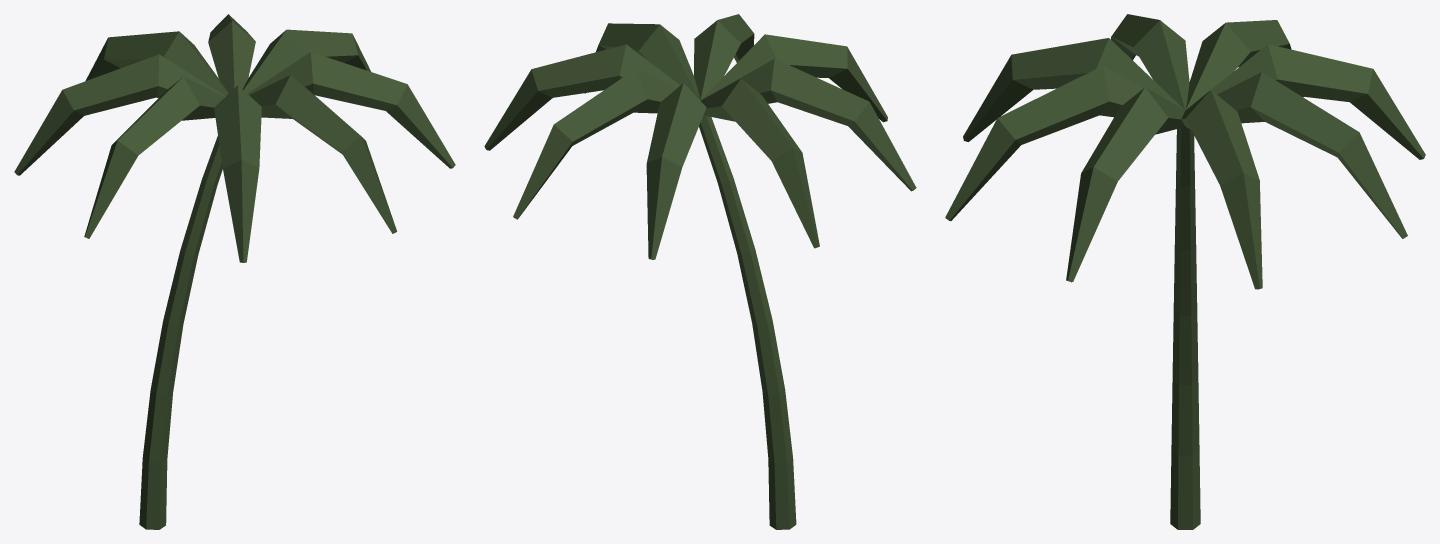
The model's file is SM_Palm.fbx.
3 renders of one model, left to right at view 1: azimuth 30°, elevation 25°; view 2: azimuth 150°, elevation 25°; view 3: azimuth 270°, elevation 25°, orthographic. The views are drawn at different scales.
Parts seen in each view (by area): view 1: SM_Palm; view 2: SM_Palm; view 3: SM_Palm.
Boxes of the visible parts, <box> form: SM_Palm: <box>14,14,455,529</box>; SM_Palm: <box>484,14,916,529</box>; SM_Palm: <box>945,14,1425,529</box>.
Size of the model in its own units: 600 by 710 by 600.
